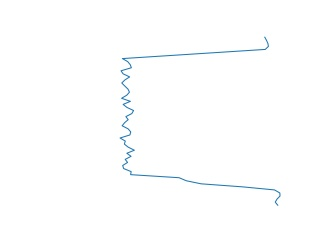distributaryChannelFill: (118, 35, 285, 208)
